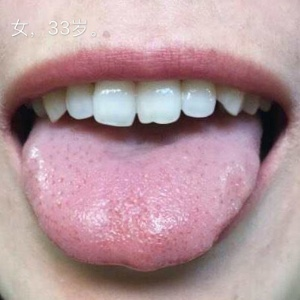st: (16, 132, 264, 266)
